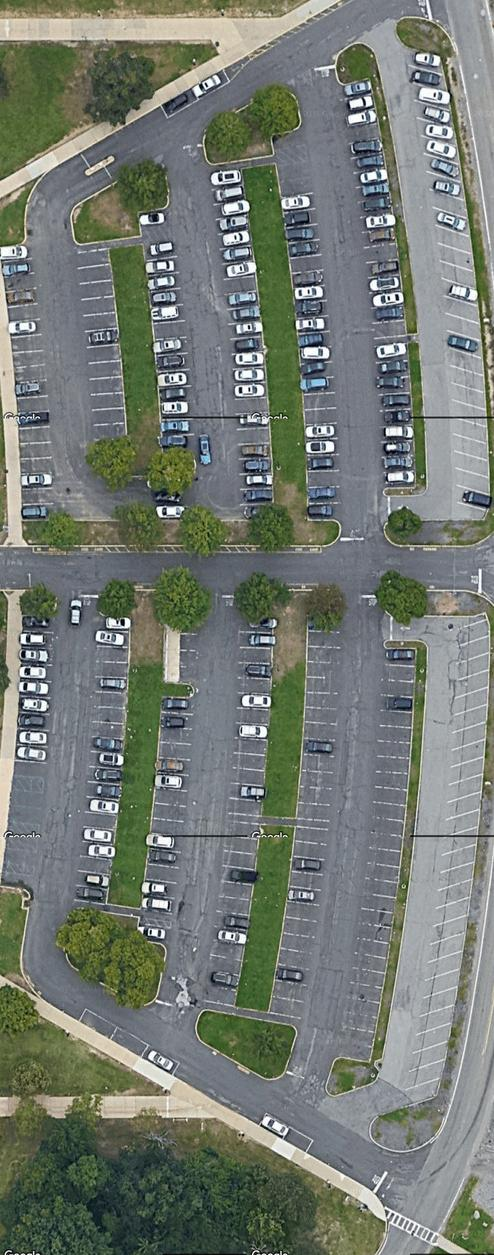parkingspot: (401, 618, 491, 1111), (404, 45, 493, 512), (336, 648, 417, 1065), (205, 167, 275, 521), (275, 159, 343, 521), (334, 76, 408, 341), (73, 614, 131, 906), (0, 243, 57, 522), (140, 695, 197, 915), (267, 825, 330, 1021), (141, 237, 196, 458), (203, 820, 263, 1009), (73, 248, 127, 442), (225, 615, 275, 818), (295, 629, 343, 823), (12, 614, 57, 781), (76, 1007, 181, 1078), (373, 342, 418, 489), (159, 68, 231, 120), (257, 1112, 315, 1155), (164, 633, 200, 687), (7, 789, 47, 828), (269, 124, 307, 152), (137, 923, 172, 947), (3, 847, 39, 869), (0, 871, 37, 892), (136, 206, 169, 228)
